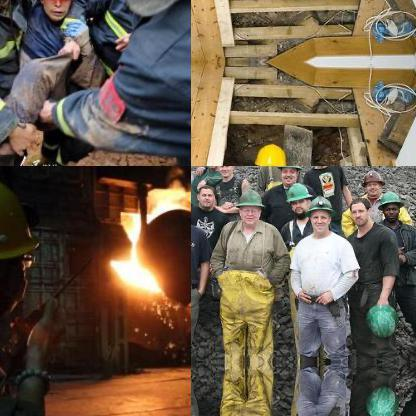Helmet: (0, 167, 41, 320), (247, 136, 292, 165), (305, 193, 333, 230), (236, 186, 264, 222), (32, 0, 80, 20), (285, 180, 309, 214), (377, 188, 401, 218), (360, 168, 382, 194), (278, 166, 299, 184)
